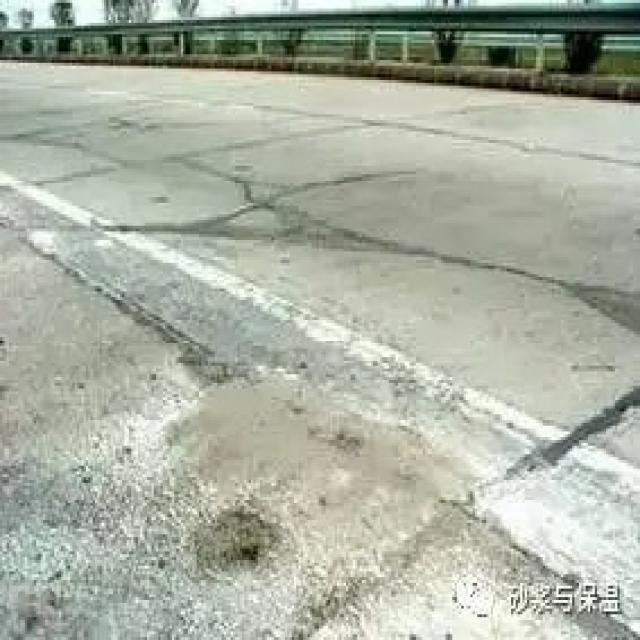Pothole: (40, 174, 638, 343), (183, 497, 278, 574)
